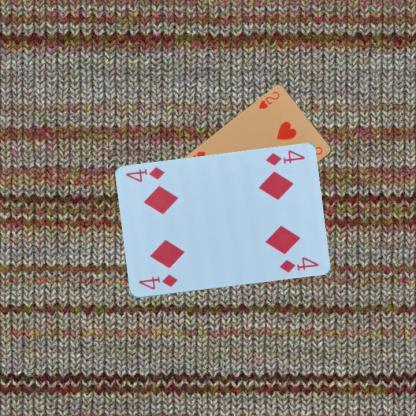2h: (256, 89, 281, 111)
4d: (263, 148, 306, 167), (136, 272, 178, 291)
